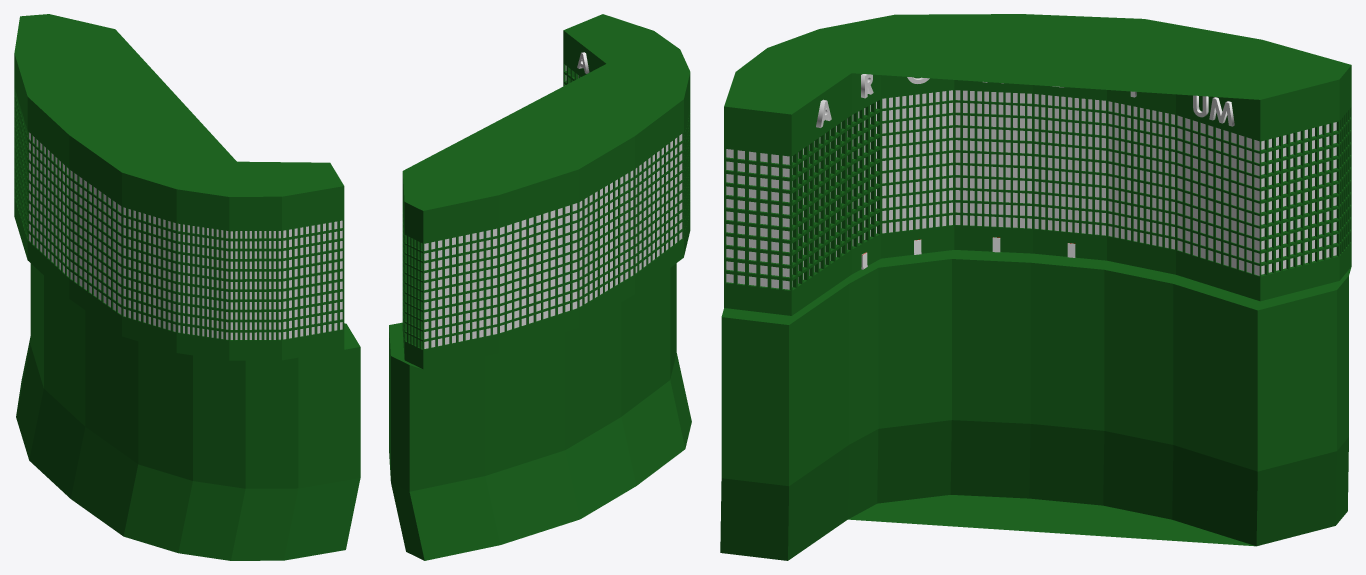
File: ArcadiumComplexI.fbx
3 renders of one model, left to right at view 1: azimuth 30°, elevation 25°; view 2: azimuth 150°, elevation 25°; view 3: azimuth 270°, elevation 25°, orthographic. The views are drawn at different scales.
Visible parts, largest first — view 1: ArcadiumComplexI; view 2: ArcadiumComplexI; view 3: ArcadiumComplexI, Text.006.
Boxes of the visible parts, left/top/right/bottom form: ArcadiumComplexI: left=14, top=14, right=360, bottom=560; ArcadiumComplexI: left=389, top=14, right=691, bottom=560; ArcadiumComplexI: left=720, top=14, right=1351, bottom=560; Text.006: left=1193, top=95, right=1234, bottom=126.
Size of the model in its own units: 3424 by 6500 by 8332.
